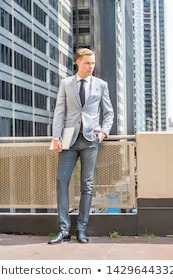F_M_suit jacket: (47, 72, 122, 151)
